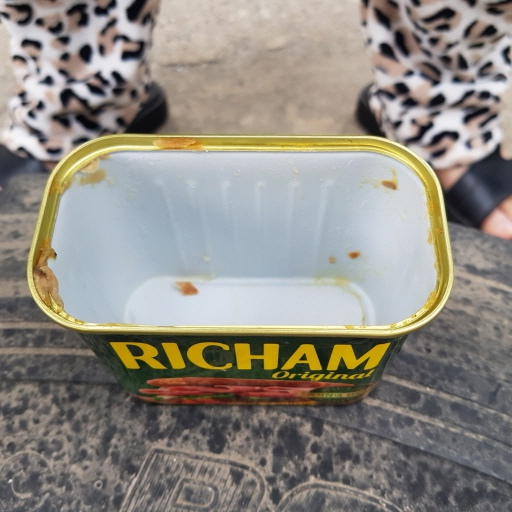Metal_2: (24, 132, 454, 413)
